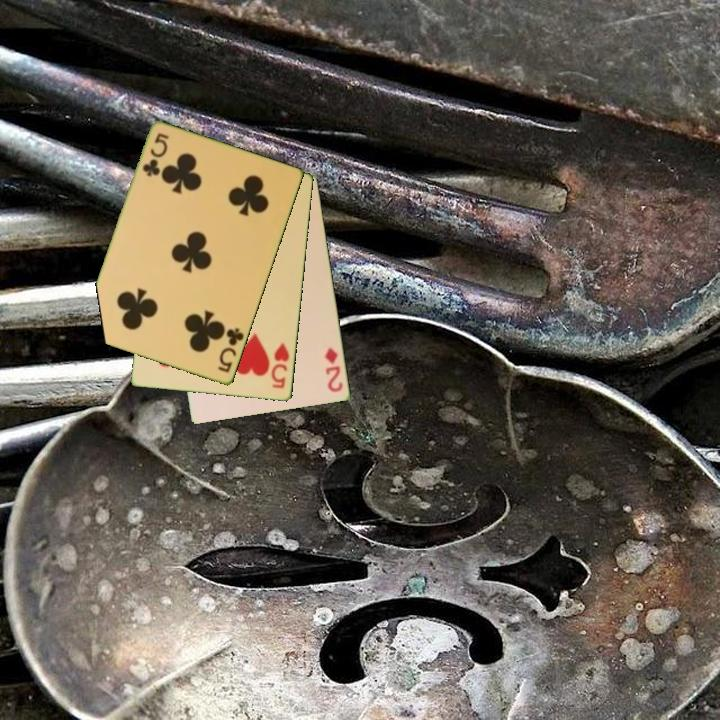2d: (322, 344, 346, 395)
5c: (214, 325, 247, 376), (139, 130, 172, 180)
5h: (268, 339, 292, 392)
